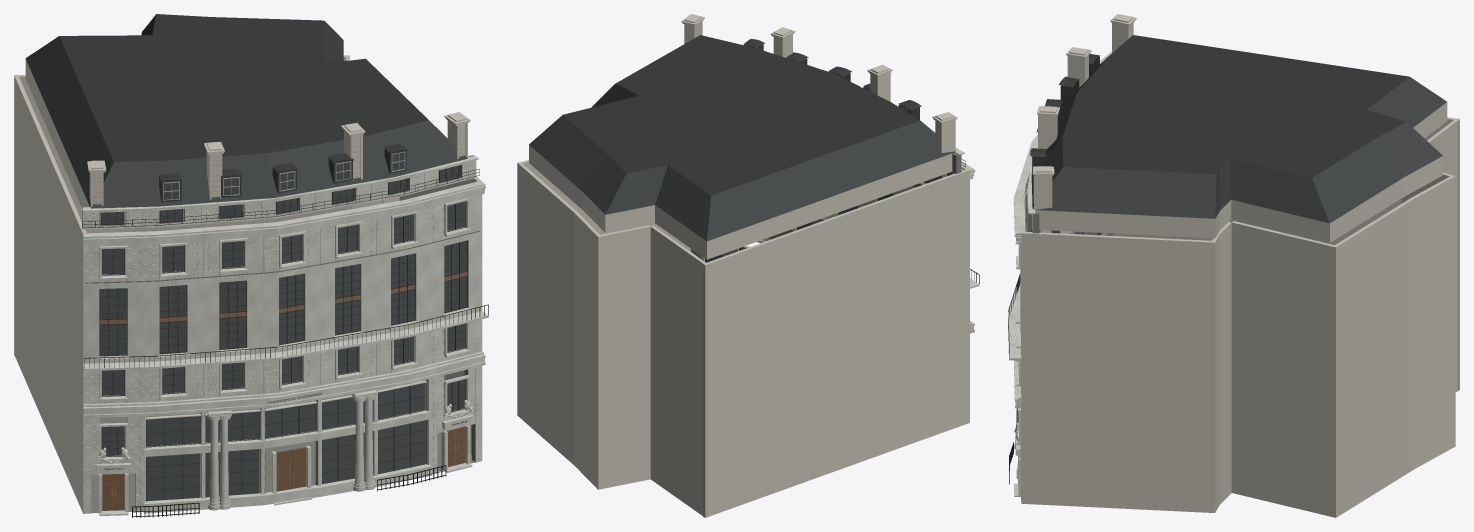
The model's file is clm-exterior-96c31ab36ab6.glb.
3 renders of one model, left to right at view 1: azimuth 30°, elevation 25°; view 2: azimuth 150°, elevation 25°; view 3: azimuth 270°, elevation 25°, orthographic. The views are drawn at different scales.
Visible parts, largest first — view 1: CLM.001; view 2: CLM.001; view 3: CLM.001.
Part boxes in pixels (box(x1,y1,x2,y2)): CLM.001: box(14, 14, 488, 517); CLM.001: box(517, 14, 979, 517); CLM.001: box(1008, 14, 1459, 517).
Size of the model in its own units: 33.24 by 28.81 by 34.59.
23 materials, 3 textured.
